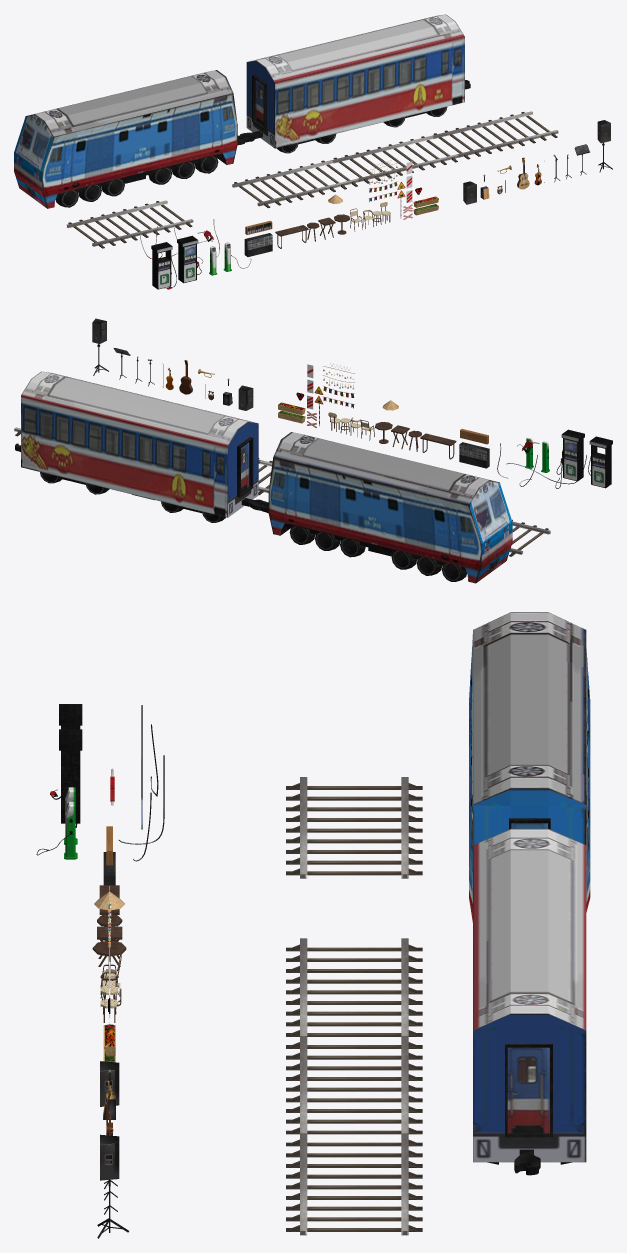
The model's file is HaNoi.fbx.
3 renders of one model, top to bottom at view 1: azimuth 30°, elevation 25°; view 2: azimuth 150°, elevation 25°; view 3: azimuth 270°, elevation 25°, orthographic. The views are drawn at different scales.
Visible parts, largest first — view 1: DauTauHoa, ToaTauHoa, DuongRay.001, DuongRay, CayXang1, CayXang2, QuayCafe, LoaSanKhau; view 2: DauTauHoa, ToaTauHoa, CayXang2, CayXang1, QuayCafe, DuongRay, LoaSanKhau, LoaThung; view 3: ToaTauHoa, DauTauHoa, DuongRay.001, DuongRay, CayXang2, LoaSanKhau.
Boxes of the visible parts, x1=… form: DauTauHoa: x1=14, y1=70, x2=244, y2=208; ToaTauHoa: x1=240, y1=14, x2=470, y2=153; DuongRay.001: x1=232, y1=111, x2=558, y2=208; DuongRay: x1=66, y1=200, x2=193, y2=248; CayXang1: x1=151, y1=242, x2=176, y2=289; CayXang2: x1=177, y1=235, x2=201, y2=283; QuayCafe: x1=244, y1=233, x2=272, y2=256; LoaSanKhau: x1=597, y1=120, x2=612, y2=172; DauTauHoa: x1=261, y1=432, x2=512, y2=583; ToaTauHoa: x1=15, y1=371, x2=267, y2=522; CayXang2: x1=556, y1=429, x2=584, y2=481; CayXang1: x1=588, y1=436, x2=612, y2=488; QuayCafe: x1=459, y1=442, x2=489, y2=468; DuongRay: x1=509, y1=519, x2=550, y2=556; LoaSanKhau: x1=92, y1=318, x2=108, y2=375; LoaThung: x1=238, y1=385, x2=253, y2=410; ToaTauHoa: x1=473, y1=828, x2=586, y2=1175; DauTauHoa: x1=469, y1=612, x2=590, y2=922; DuongRay.001: x1=286, y1=938, x2=422, y2=1235; DuongRay: x1=286, y1=777, x2=422, y2=878; CayXang2: x1=59, y1=729, x2=82, y2=827; LoaSanKhau: x1=97, y1=1134, x2=128, y2=1238.
Bounding box in the file's own units: 3896 × 693 × 1958.
22 materials, 22 textured.
